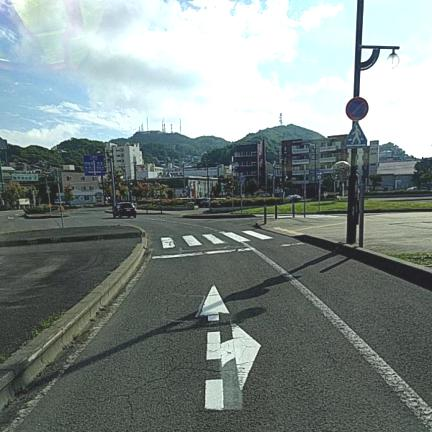Road: (10, 216, 431, 431)
